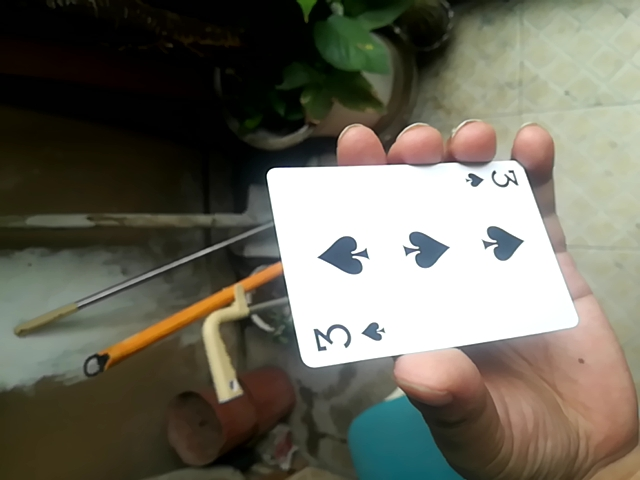ht 3: (265, 161, 568, 366)
